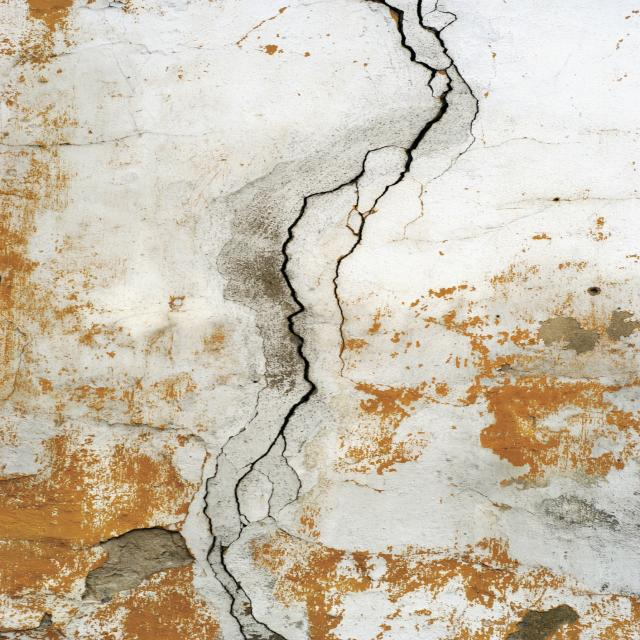Wall_Cracks: (116, 0, 574, 640)
